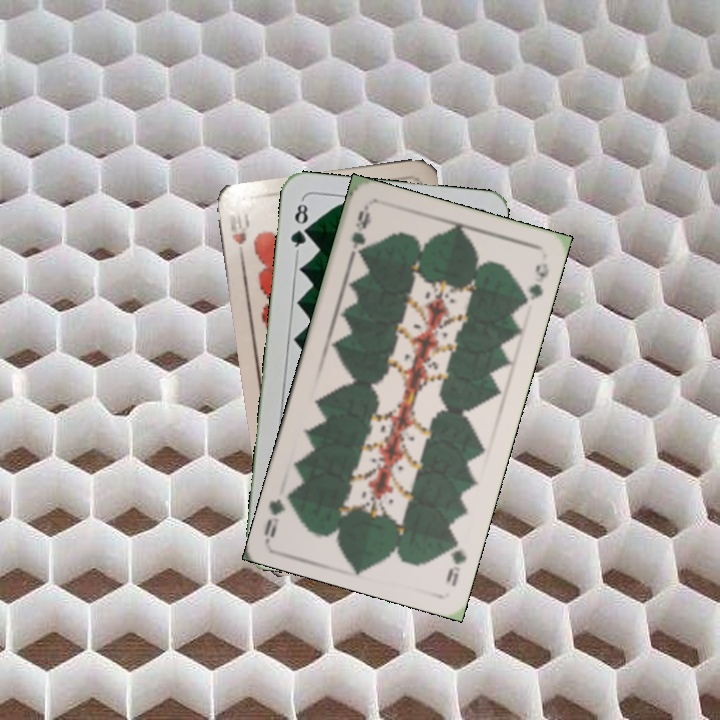G8: (286, 196, 312, 255)
G9: (345, 203, 373, 261), (442, 531, 470, 589)
H10: (222, 206, 251, 265)
